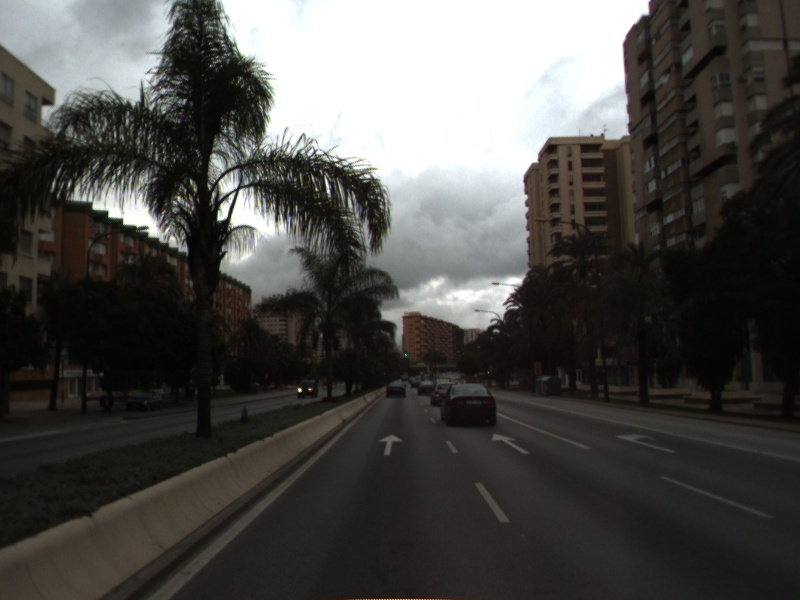RIGHT: (612, 429, 681, 455)
STRAIGHT: (489, 430, 532, 456), (376, 432, 406, 457)
